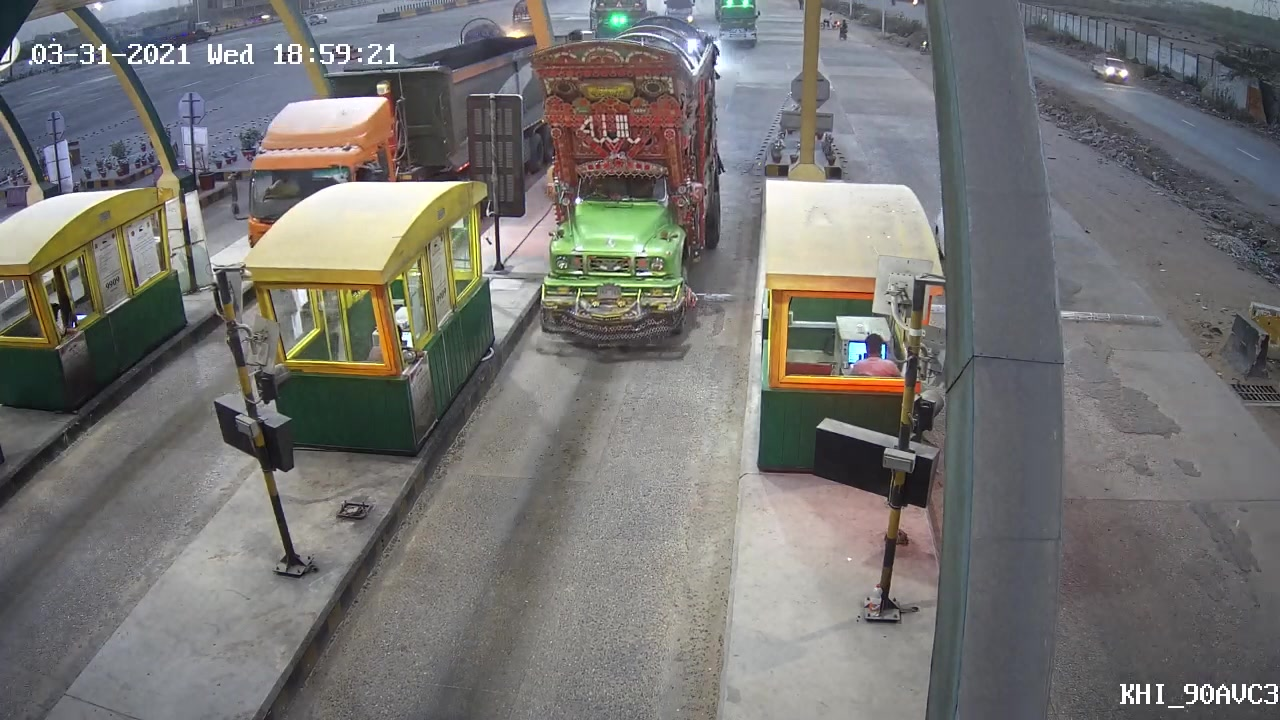F5: (517, 8, 733, 346)
